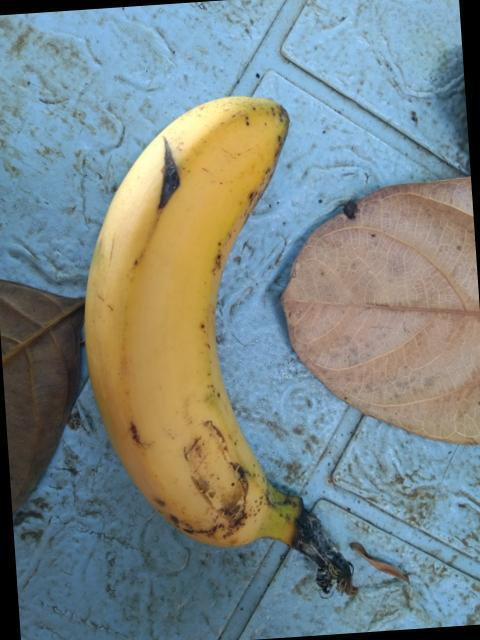ripe: (58, 69, 336, 610)
